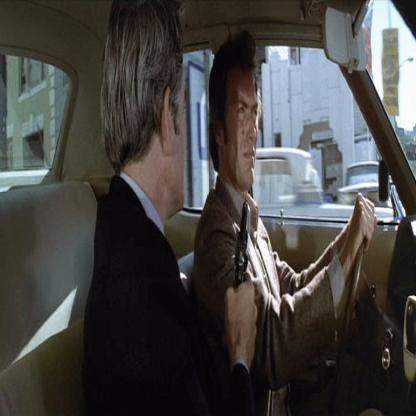gun: (226, 179, 256, 300)
